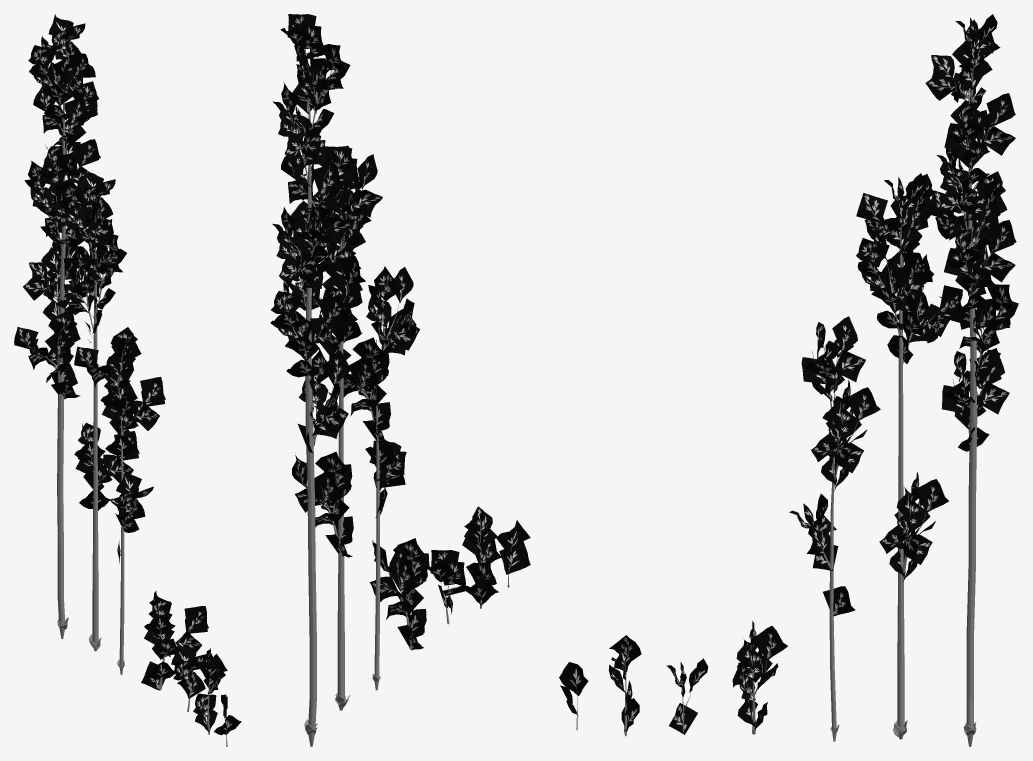
File: bamboos.FBX
The picture shows the model from 3 angles, left to right: view 1: azimuth 30°, elevation 25°; view 2: azimuth 150°, elevation 25°; view 3: azimuth 270°, elevation 25°; orthographic projection. The views are drawn at different scales.
Parts seen in each view (by area): view 1: bamboo_6, bamboo_5, bamboo_3, branch2, bamboo_2, branch, bamboo_1; view 2: bamboo_6, bamboo_5, bamboo_3, branch2, bamboo_2, branch, bamboo_1; view 3: bamboo_6, bamboo_5, bamboo_3, branch2, bamboo_2, branch, bamboo_1.
Boxes of the visible parts, <box> form: bamboo_6: <box>14,14,100,639</box>; bamboo_5: <box>58,170,139,651</box>; bamboo_3: <box>74,327,165,674</box>; branch2: <box>141,590,208,690</box>; bamboo_2: <box>193,648,227,734</box>; branch: <box>171,644,206,711</box>; bamboo_1: <box>214,694,241,746</box>; bamboo_6: <box>270,14,354,746</box>; bamboo_5: <box>292,146,382,710</box>; bamboo_3: <box>329,266,419,690</box>; branch2: <box>370,538,429,650</box>; bamboo_2: <box>462,506,501,608</box>; branch: <box>428,550,469,624</box>; bamboo_1: <box>496,520,530,587</box>; bamboo_6: <box>925,14,1018,746</box>; bamboo_5: <box>856,173,963,739</box>; bamboo_3: <box>789,316,880,741</box>; branch2: <box>732,621,787,734</box>; bamboo_2: <box>608,635,641,736</box>; branch: <box>666,658,708,734</box>; bamboo_1: <box>559,662,588,730</box>.
Size of the model in its own units: 64.79 by 440 by 250.
